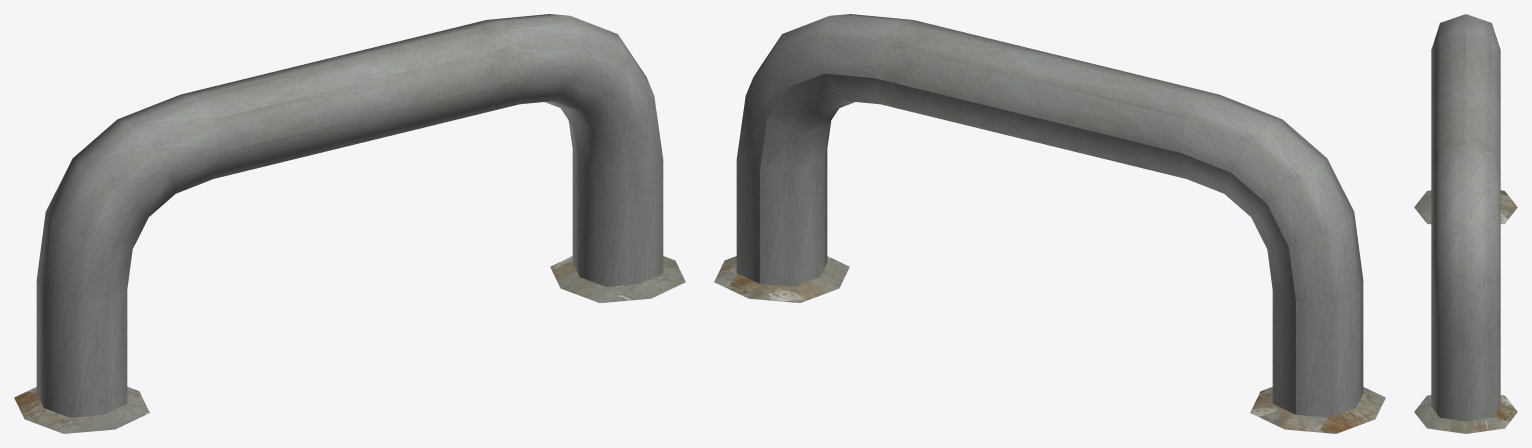
Rendered from cs_deck_tie_bar_lod0.glb.
3 views of the same model, side by side, from view 1: azimuth 30°, elevation 25°; view 2: azimuth 150°, elevation 25°; view 3: azimuth 270°, elevation 25° (orthographic). The views are drawn at different scales.
Parts seen in each view (by area): view 1: surf0, surf1; view 2: surf0, surf1; view 3: surf0, surf1.
Boxes of the visible parts, x1,y1,x2,y2 form: surf0: (36, 14, 663, 417); surf1: (14, 256, 685, 433); surf0: (736, 14, 1363, 417); surf1: (714, 256, 1385, 433); surf0: (1431, 14, 1500, 421); surf1: (1414, 190, 1517, 433).
Bounding box in the file's own units: 17 × 7 × 3.
